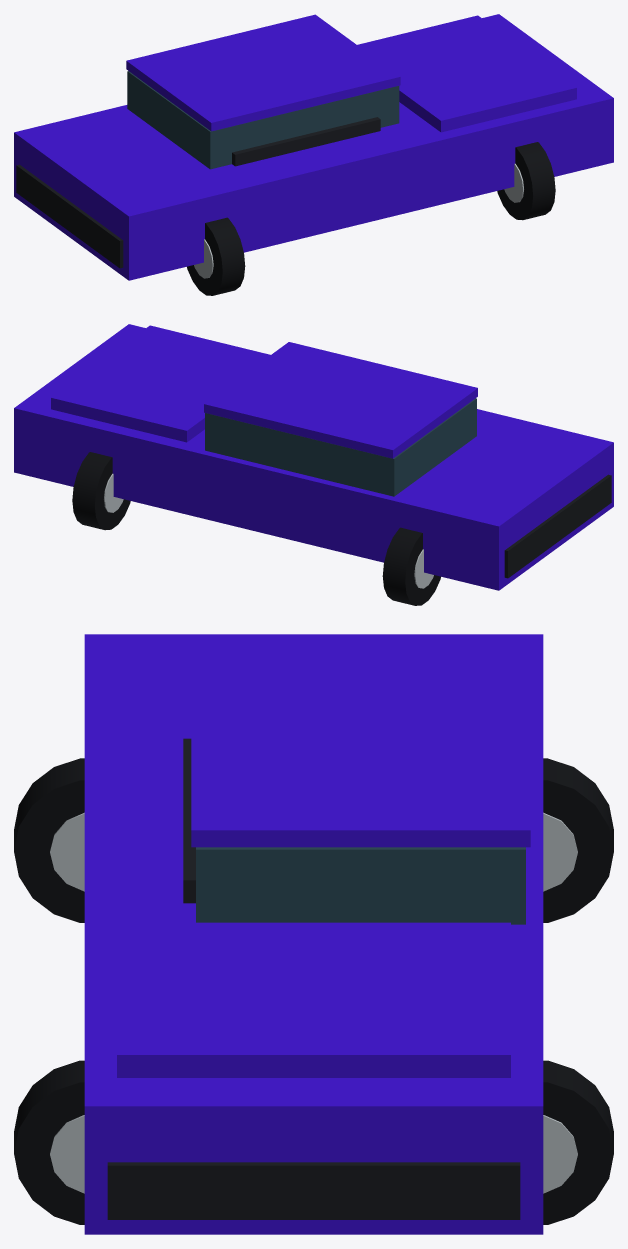
The model's file is chevy_camaro_zl1.glb.
3 renders of one model, top to bottom at view 1: azimuth 30°, elevation 25°; view 2: azimuth 150°, elevation 25°; view 3: azimuth 270°, elevation 25°, orthographic. The views are drawn at different scales.
Visible parts, largest first — view 1: body, roof, hood, cabin, rear_bumper, front_right_wheel, rear_right_wheel, interior; view 2: body, roof, hood, cabin, rear_bumper, front_left_wheel, rear_left_wheel; view 3: body, roof, hood, cabin, front_bumper, front_left_wheel, front_right_wheel, rear_left_wheel, rear_right_wheel, interior.
Boxes of the visible parts, left/top/right/bottom form: body: left=14, top=14, right=613, bottom=280; roof: left=126, top=14, right=400, bottom=131; hood: left=357, top=15, right=576, bottom=132; cabin: left=127, top=71, right=399, bottom=169; rear_bumper: left=16, top=164, right=123, bottom=268; front_right_wheel: left=497, top=142, right=555, bottom=220; rear_right_wheel: left=187, top=217, right=245, bottom=295; interior: left=232, top=117, right=380, bottom=166; body: left=14, top=324, right=613, bottom=590; roof: left=204, top=342, right=477, bottom=458; hood: left=51, top=325, right=270, bottom=442; cabin: left=205, top=398, right=476, bottom=496; rear_bumper: left=504, top=474, right=611, bottom=578; front_left_wheel: left=72, top=452, right=130, bottom=530; rear_left_wheel: left=382, top=527, right=440, bottom=605; body: left=84, top=634, right=543, bottom=1234; roof: left=191, top=646, right=530, bottom=847; hood: left=117, top=922, right=510, bottom=1077; cabin: left=196, top=847, right=525, bottom=924; front_bumper: left=107, top=1162, right=520, bottom=1219; front_left_wheel: left=543, top=1060, right=613, bottom=1224; front_right_wheel: left=14, top=1060, right=84, bottom=1224; rear_left_wheel: left=543, top=758, right=613, bottom=922; rear_right_wheel: left=14, top=758, right=84, bottom=922; interior: left=183, top=738, right=195, bottom=903.
Bounding box in the file's own units: 4.81 × 1.35 × 2.55.
